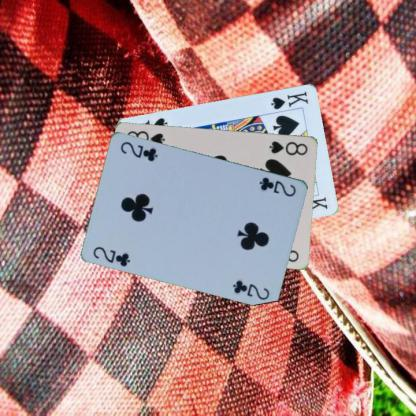2c: (257, 174, 298, 198), (90, 244, 132, 267)
8s: (267, 138, 309, 157)
Ks: (268, 89, 310, 110)
